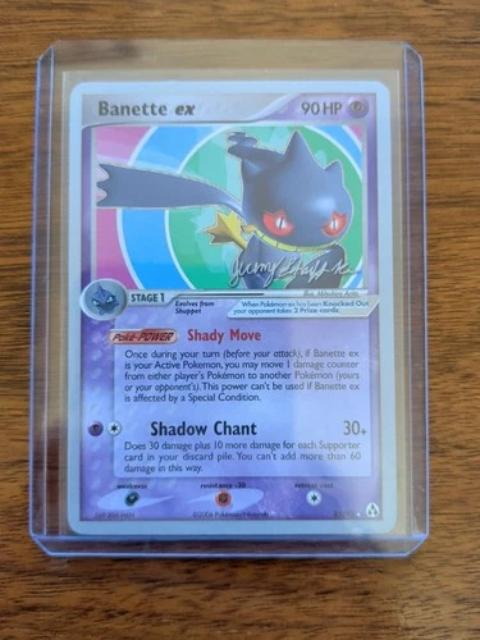Card: (63, 77, 402, 539)
Name: (92, 95, 201, 122)
